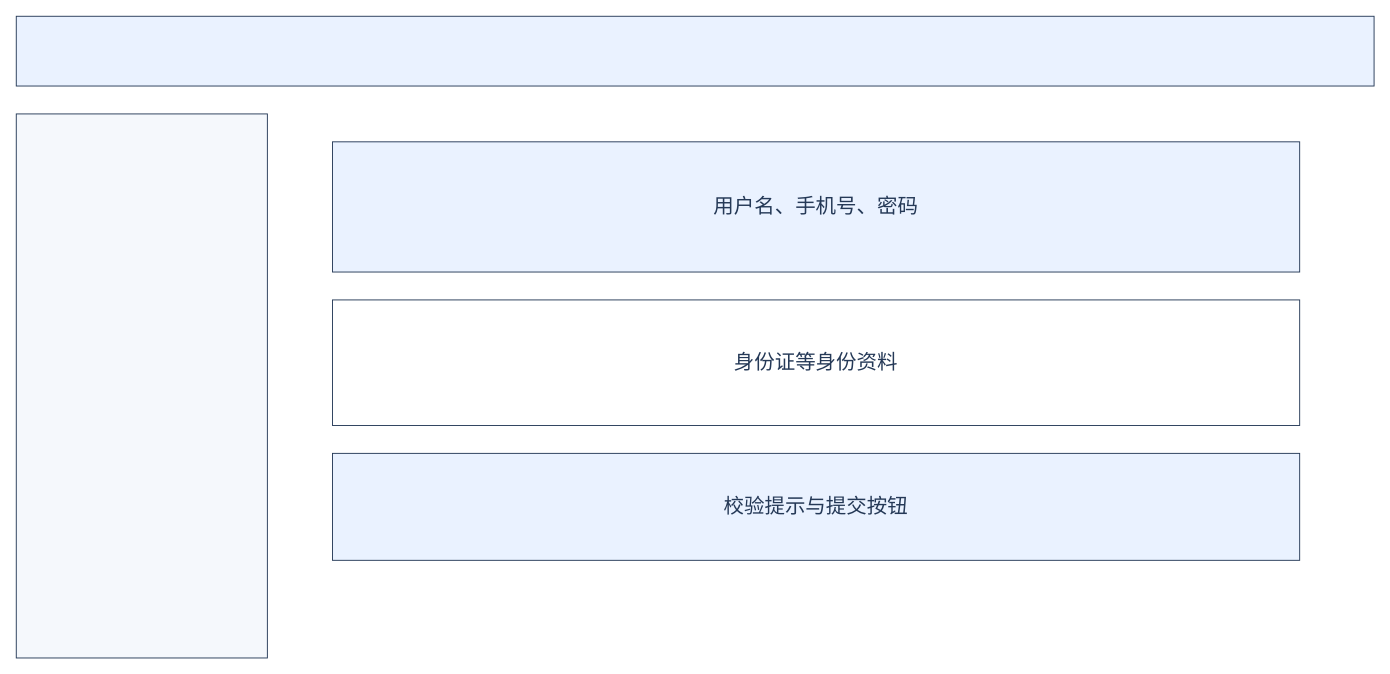
Some shapes in this 1390 by 674 pixel diagram are drawn without their labels. Each missing label, with the centre of its shape:
智慧酒店预订与运营管理系统: point (694, 50)
注册 / 登录: point (141, 385)
